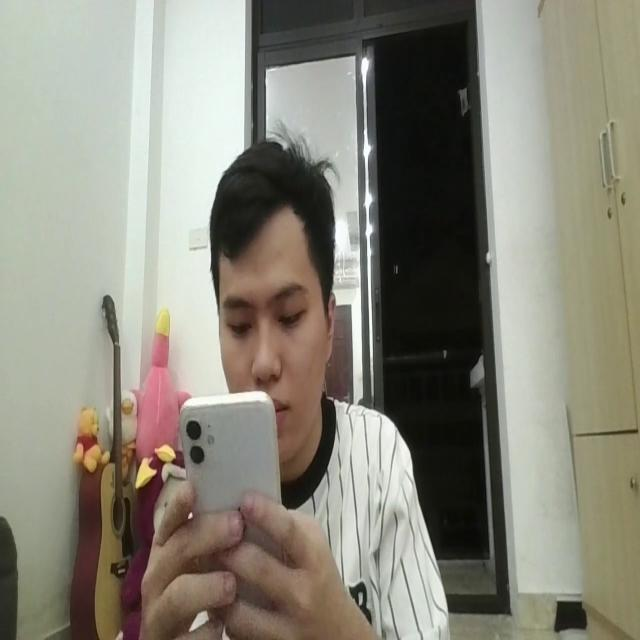phone: (181, 386, 289, 594)
student: (140, 130, 447, 640)
